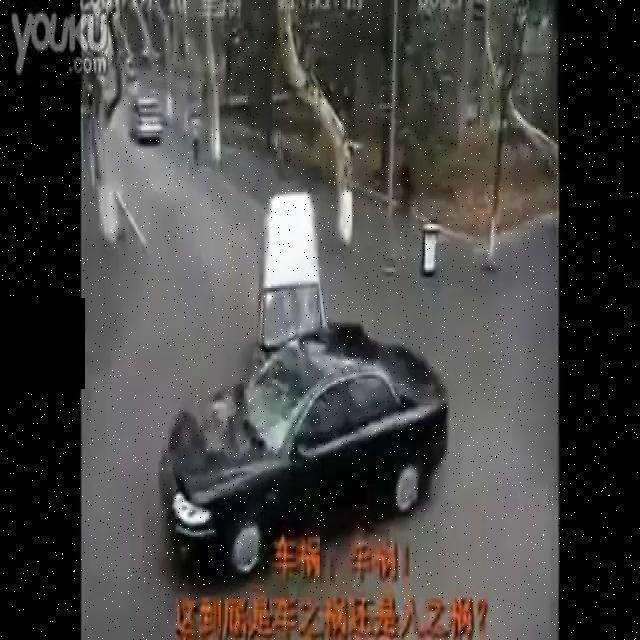multiple_accident: (250, 290, 361, 414)
